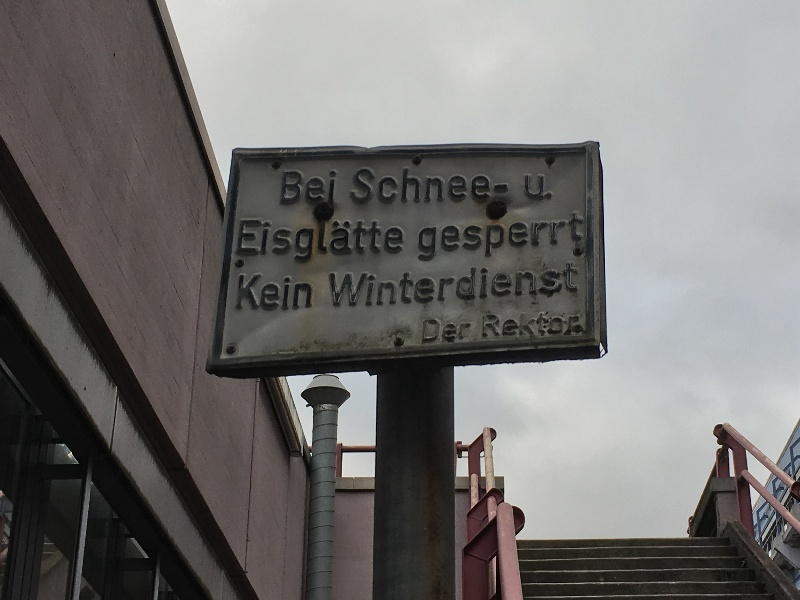text: (433, 212, 448, 266), (449, 212, 464, 266), (465, 212, 480, 266), (481, 212, 496, 266), (497, 212, 512, 266), (513, 212, 528, 266), (529, 212, 544, 266), (545, 212, 560, 266), (561, 212, 576, 266), (418, 212, 432, 266), (337, 262, 352, 309), (353, 262, 368, 309), (369, 262, 384, 309), (385, 262, 400, 309), (401, 262, 416, 309), (417, 262, 432, 309), (433, 262, 448, 309), (449, 262, 464, 309), (465, 262, 480, 309), (481, 262, 496, 309), (497, 262, 512, 309), (513, 262, 528, 309), (529, 262, 544, 309), (545, 262, 560, 309), (561, 262, 576, 309), (241, 219, 256, 263), (257, 219, 272, 263), (273, 219, 288, 263), (289, 219, 304, 263), (305, 219, 320, 263), (321, 219, 336, 263), (337, 219, 352, 263), (353, 219, 368, 263), (369, 219, 384, 263), (385, 219, 400, 263), (241, 273, 256, 310), (257, 273, 272, 310), (273, 273, 288, 310), (289, 273, 304, 310), (369, 167, 384, 203), (385, 167, 400, 203), (401, 167, 416, 203), (417, 167, 432, 203), (433, 167, 448, 203), (449, 167, 464, 203), (465, 167, 480, 203), (481, 167, 496, 203), (289, 171, 304, 202), (305, 171, 320, 202), (321, 171, 336, 202), (497, 167, 509, 203), (327, 262, 336, 309), (497, 313, 512, 338), (513, 313, 528, 338), (529, 313, 544, 338), (545, 313, 560, 338), (561, 313, 576, 338), (358, 167, 368, 203), (529, 175, 544, 199), (433, 319, 448, 343), (449, 319, 464, 343), (482, 313, 496, 338), (577, 212, 582, 266), (305, 273, 312, 310), (423, 319, 432, 343), (545, 175, 553, 199), (465, 319, 473, 343), (401, 219, 405, 263), (577, 313, 582, 338), (284, 171, 288, 202), (524, 175, 528, 199), (577, 262, 579, 309), (239, 273, 240, 310)
